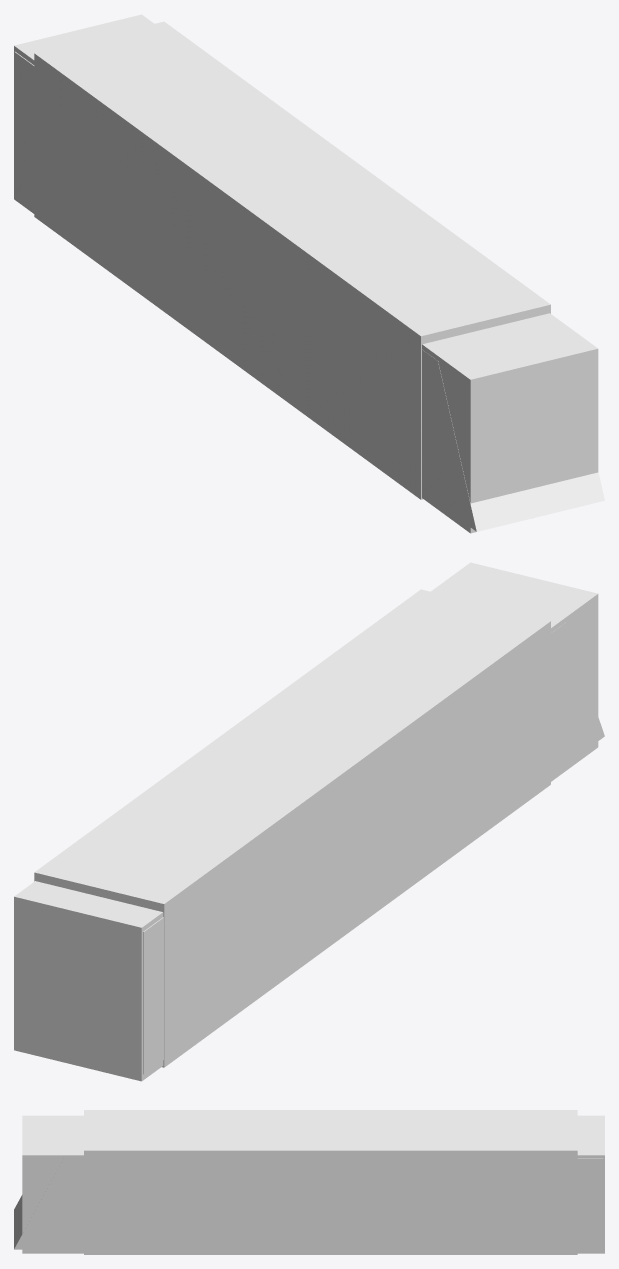
Rendered from T200_COL_0.glb.
3 renders of one model, top to bottom at view 1: azimuth 30°, elevation 25°; view 2: azimuth 150°, elevation 25°; view 3: azimuth 270°, elevation 25°, orthographic. The views are drawn at different scales.
Visible parts, largest first — view 1: obj22, obj12, obj21, obj23, obj19, COL, obj18, obj20, obj17; view 2: obj22, obj12, obj23, obj21, obj19, obj20, obj18, COL, obj17; view 3: obj19, obj18, obj20, obj12, obj22, COL, obj23, obj21, obj17.
Boxes of the visible parts, box(x1,y1,x2,y2) form: obj22: box(140, 115, 379, 421); obj12: box(14, 14, 598, 533); obj21: box(315, 243, 485, 499); obj23: box(34, 37, 204, 293); obj19: box(206, 99, 444, 242); COL: box(422, 349, 604, 531); obj18: box(380, 227, 550, 328); obj20: box(99, 21, 269, 114); obj17: box(14, 51, 34, 208); obj22: box(206, 683, 444, 989); obj12: box(14, 562, 598, 1081); obj23: box(99, 810, 270, 1067); obj21: box(380, 605, 550, 861); obj19: box(140, 667, 379, 810); obj20: box(34, 795, 204, 896); obj18: box(315, 589, 485, 682); COL: box(551, 622, 604, 775); obj17: box(143, 917, 163, 1074); obj19: box(219, 1130, 442, 1254); obj18: box(84, 1130, 219, 1254); obj20: box(442, 1130, 577, 1254); obj12: box(22, 1115, 604, 1253); obj22: box(219, 1110, 442, 1130); COL: box(14, 1158, 83, 1249); obj23: box(442, 1110, 577, 1130); obj21: box(84, 1110, 219, 1130); obj17: box(577, 1158, 603, 1249).
Bounding box in the file's own units: 6.88 × 8.27 × 42.43.
Materials: 9 (9 with a texture image).
